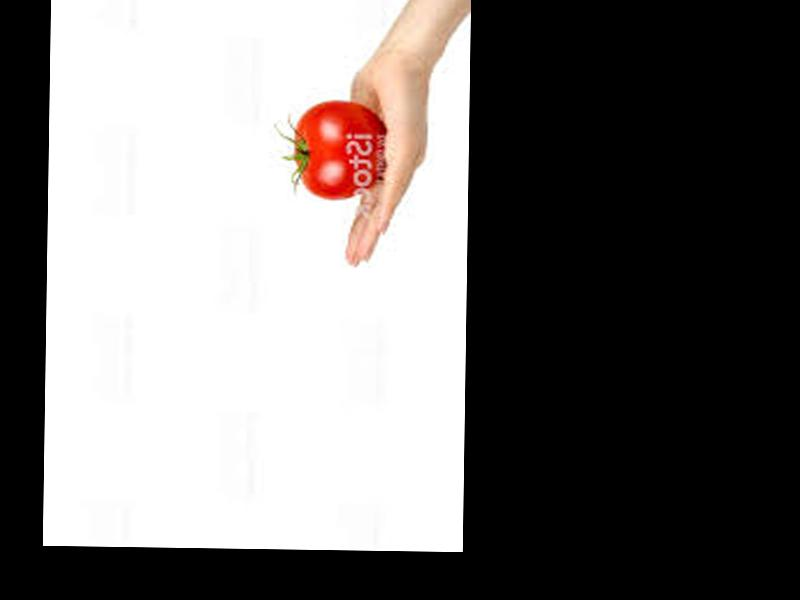Tomato: (291, 99, 384, 198)
